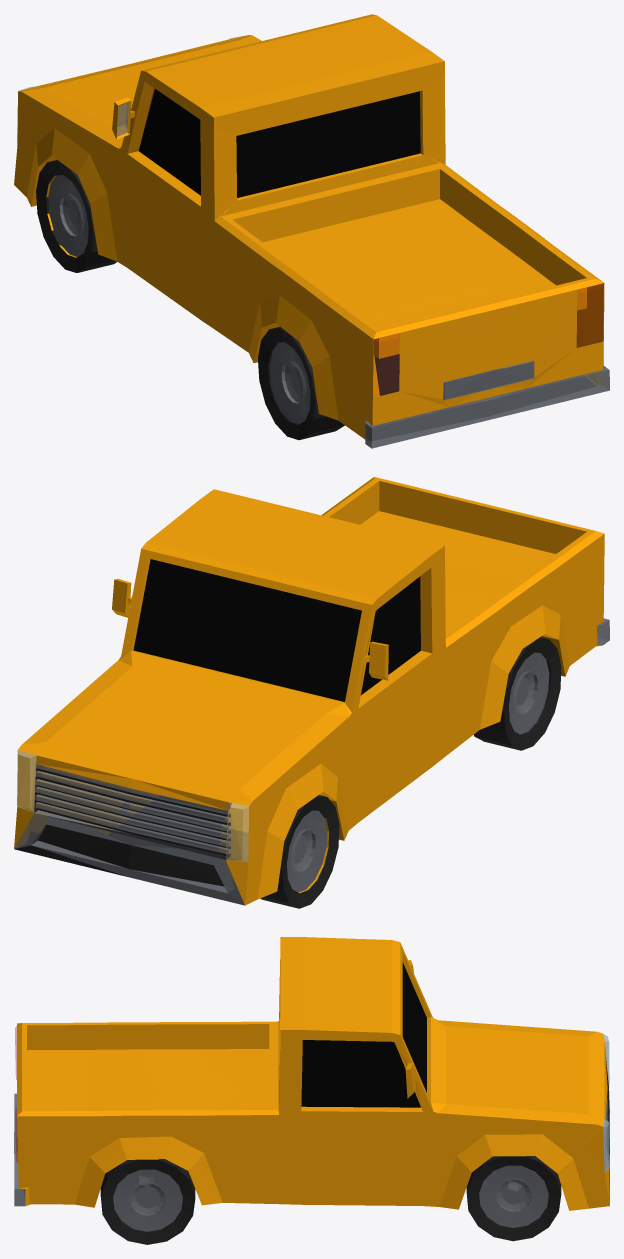
The model's file is truck.fbx.
3 renders of one model, top to bottom at view 1: azimuth 30°, elevation 25°; view 2: azimuth 150°, elevation 25°; view 3: azimuth 270°, elevation 25°, orthographic. The views are drawn at different scales.
Visible parts, largest first — view 1: Truckmodel; view 2: Truckmodel; view 3: Truckmodel.
Part boxes in pixels (x1,y1,x2,y2): Truckmodel: (14,14,609,448); Truckmodel: (14,477,609,908); Truckmodel: (14,937,609,1244).
Size of the model in its own units: 97.15 by 87.78 by 223.
